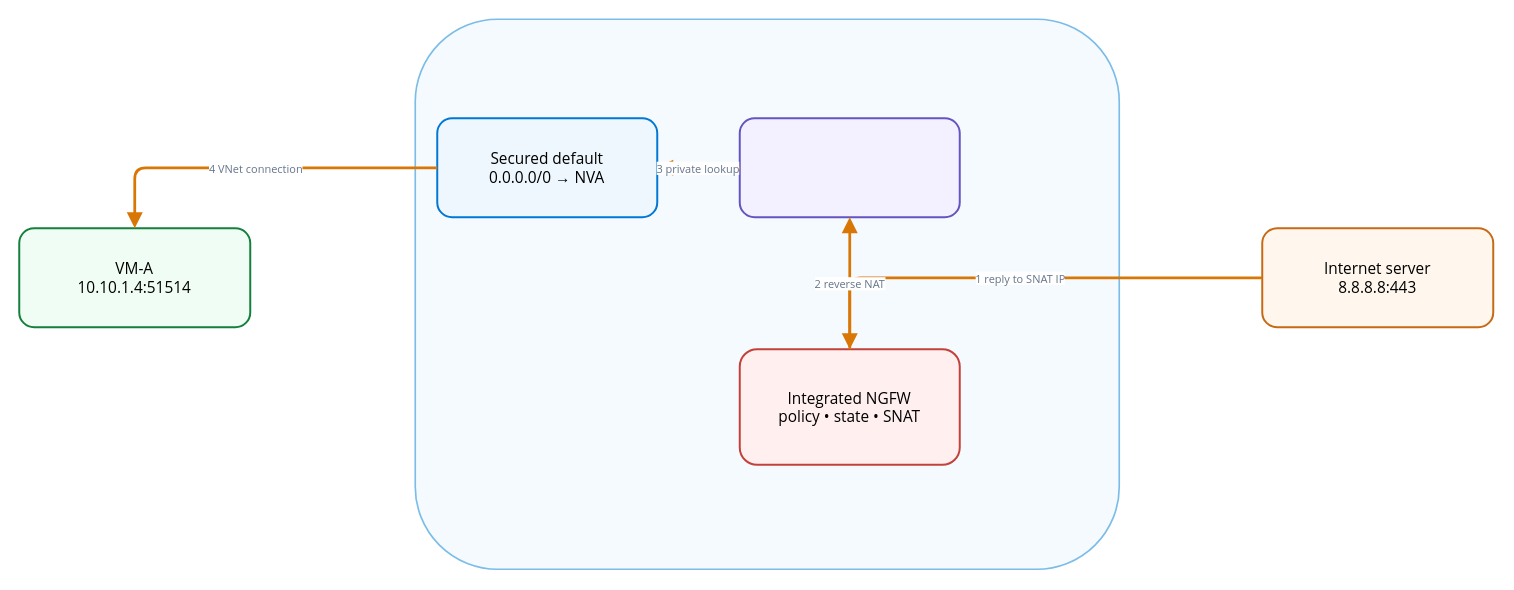
Image size: 1514x590. Some labels were removed from this diagram. Here are the shapes that lost their labels. From the top down, the box of each, then its label:
(738, 117, 960, 218): Routing Intent Internet Traffic
(414, 18, 1120, 570): AZURE VIRTUAL WAN HUB
